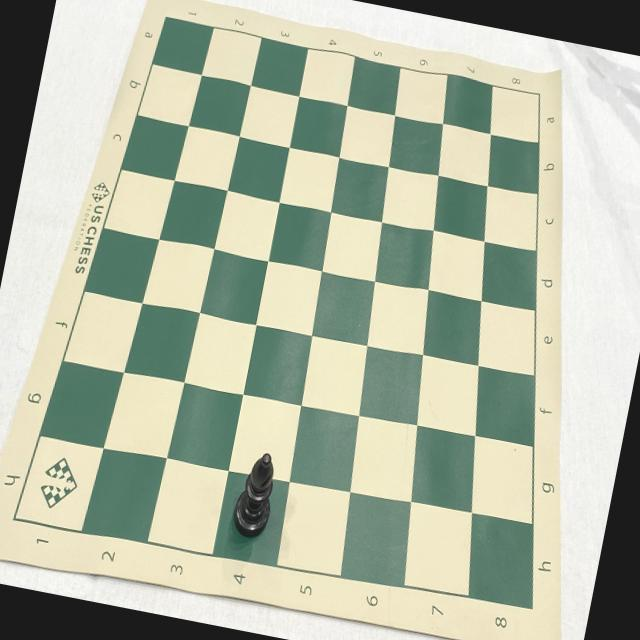black-bishop: (229, 449, 282, 542)
